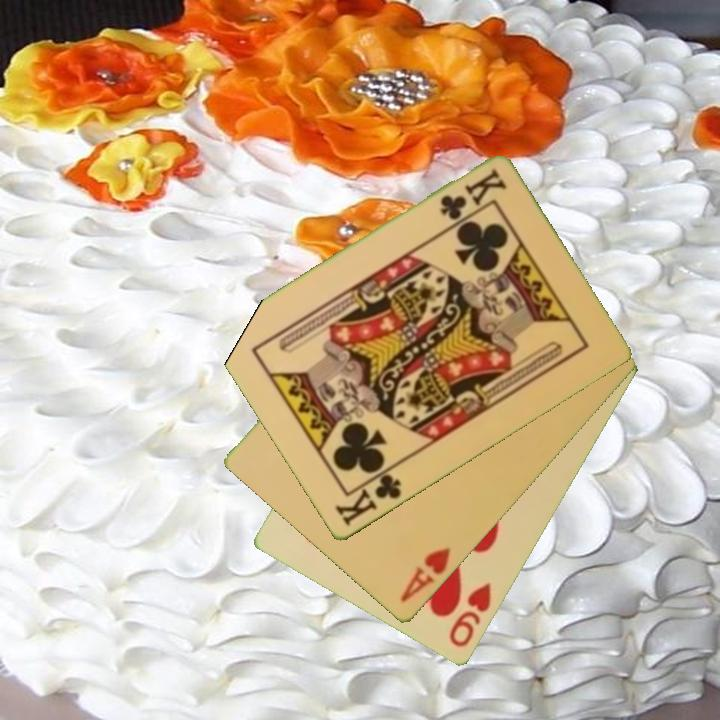9h: (445, 580, 495, 651)
Ah: (396, 544, 454, 606)
Kc: (331, 463, 404, 530), (436, 165, 509, 224)
